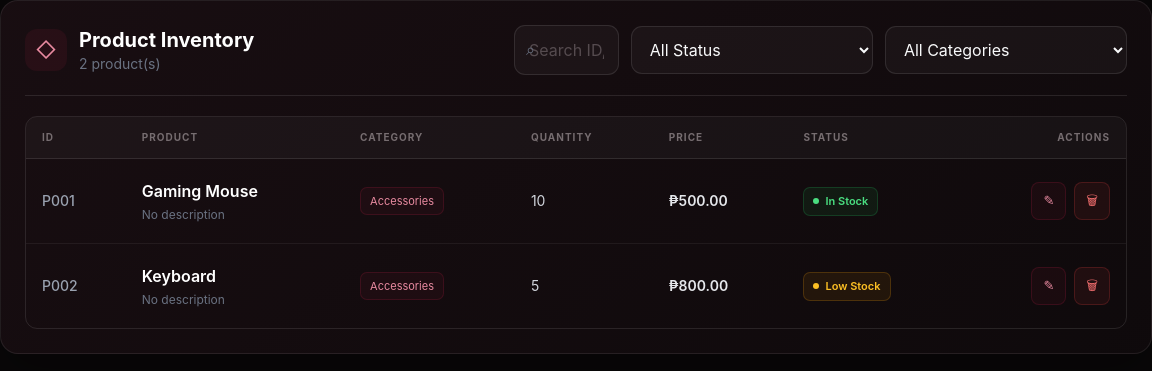
Test: Inventory Management System › should filter products when searching by product ID
Type "P002" into the field with placeholder "Search ID, name, or category..." at (566, 50), box [514, 25, 619, 75]
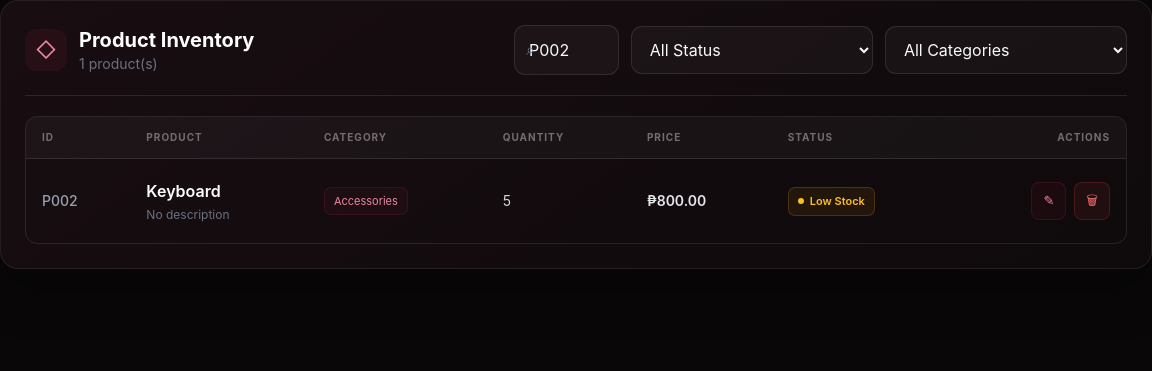
Expected: the text "Keyboard" is shown, [146, 181, 221, 201]
Now the text "Gaming Mouse" is gone
